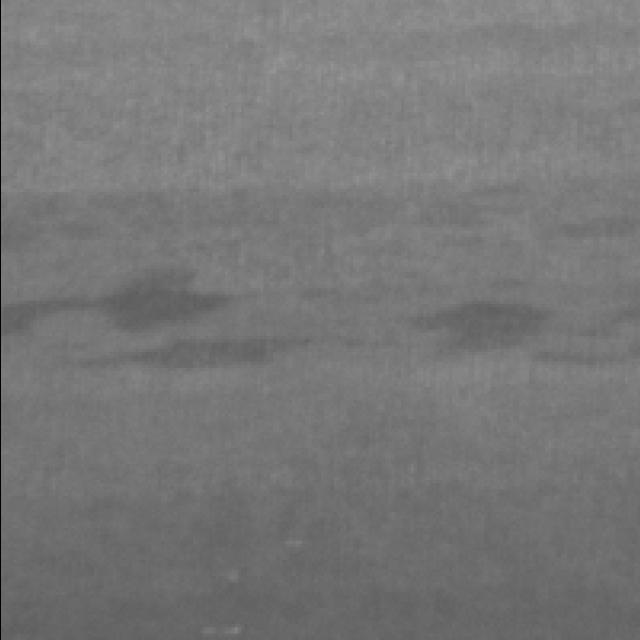inclusion: (91, 268, 226, 328), (422, 301, 538, 365), (100, 336, 332, 368)
